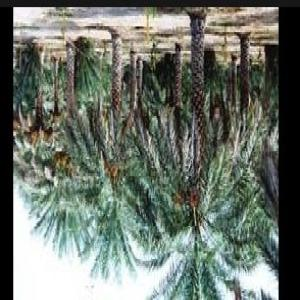palm tree: (14, 11, 279, 298)
